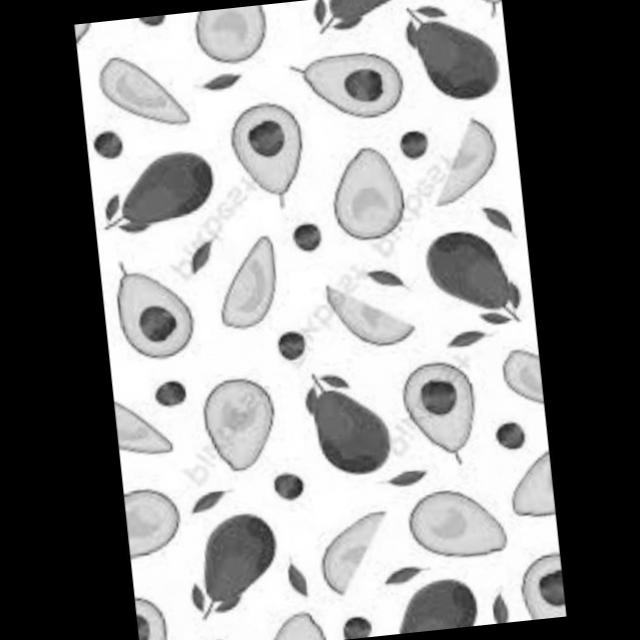bo: (303, 129, 427, 256), (407, 212, 523, 342), (174, 508, 294, 626), (94, 142, 224, 248), (294, 486, 396, 612), (83, 42, 192, 150), (222, 97, 322, 212), (202, 230, 296, 352), (293, 380, 403, 482), (310, 260, 410, 372), (198, 375, 290, 488), (295, 46, 417, 131), (412, 116, 520, 208), (99, 256, 182, 374), (402, 354, 486, 464), (398, 5, 487, 106), (411, 483, 514, 566), (160, 4, 279, 75), (380, 568, 480, 634), (111, 381, 179, 478), (294, 0, 427, 48), (502, 544, 566, 622), (487, 334, 543, 412), (508, 444, 556, 528), (131, 588, 171, 640)
